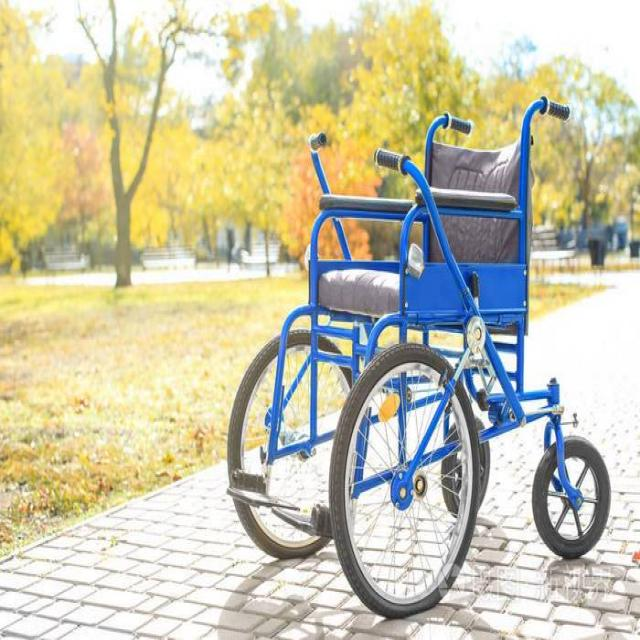wheelchairs: (222, 98, 618, 616)
